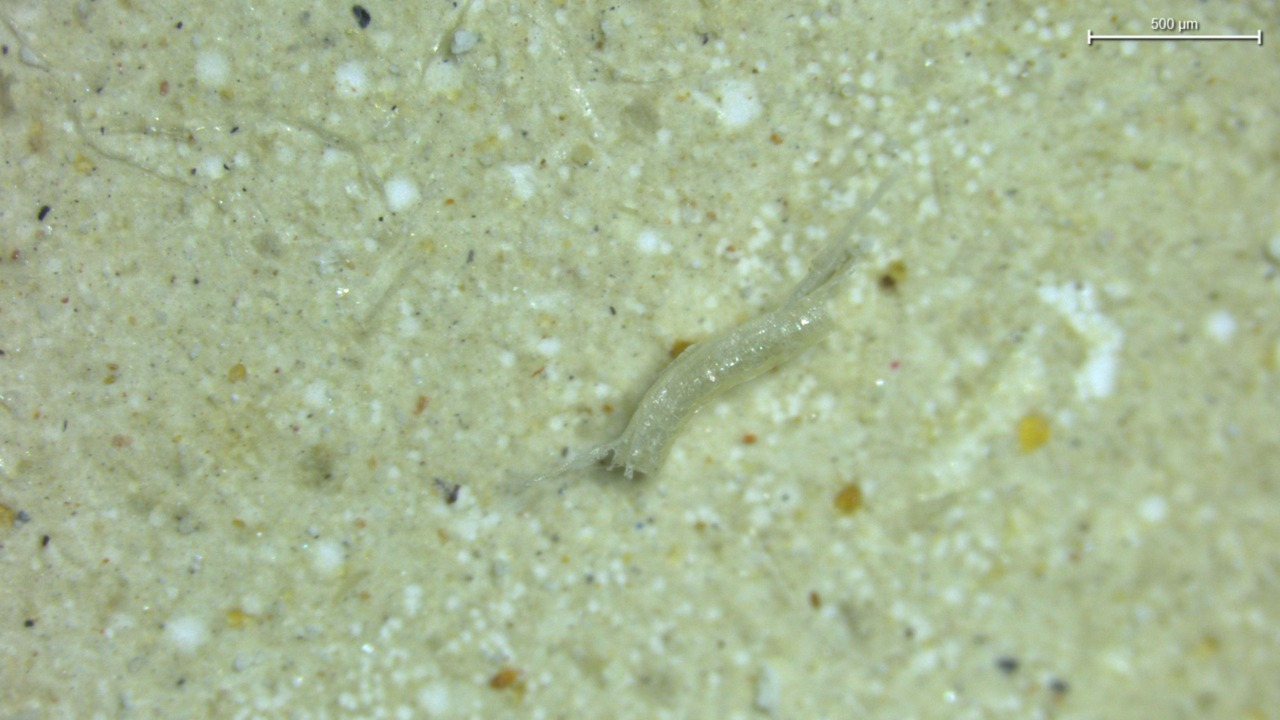microplastic_fragment: (583, 175, 898, 476), (451, 30, 479, 55)
